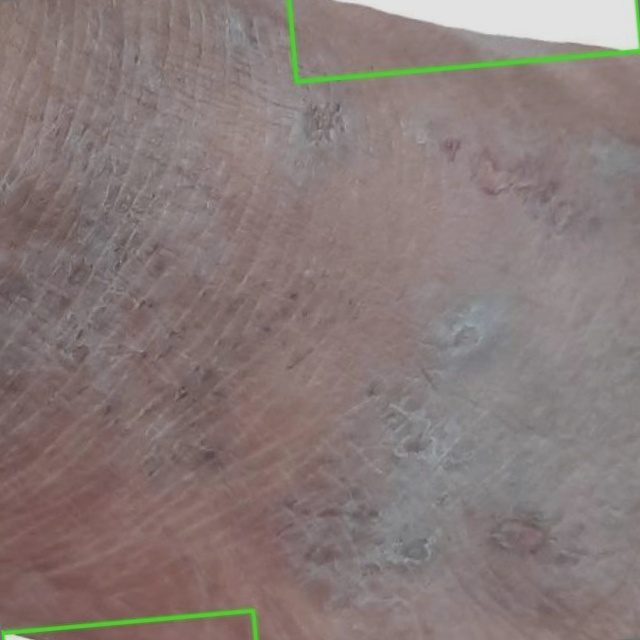Contact Dermatitis: (289, 0, 639, 81)
